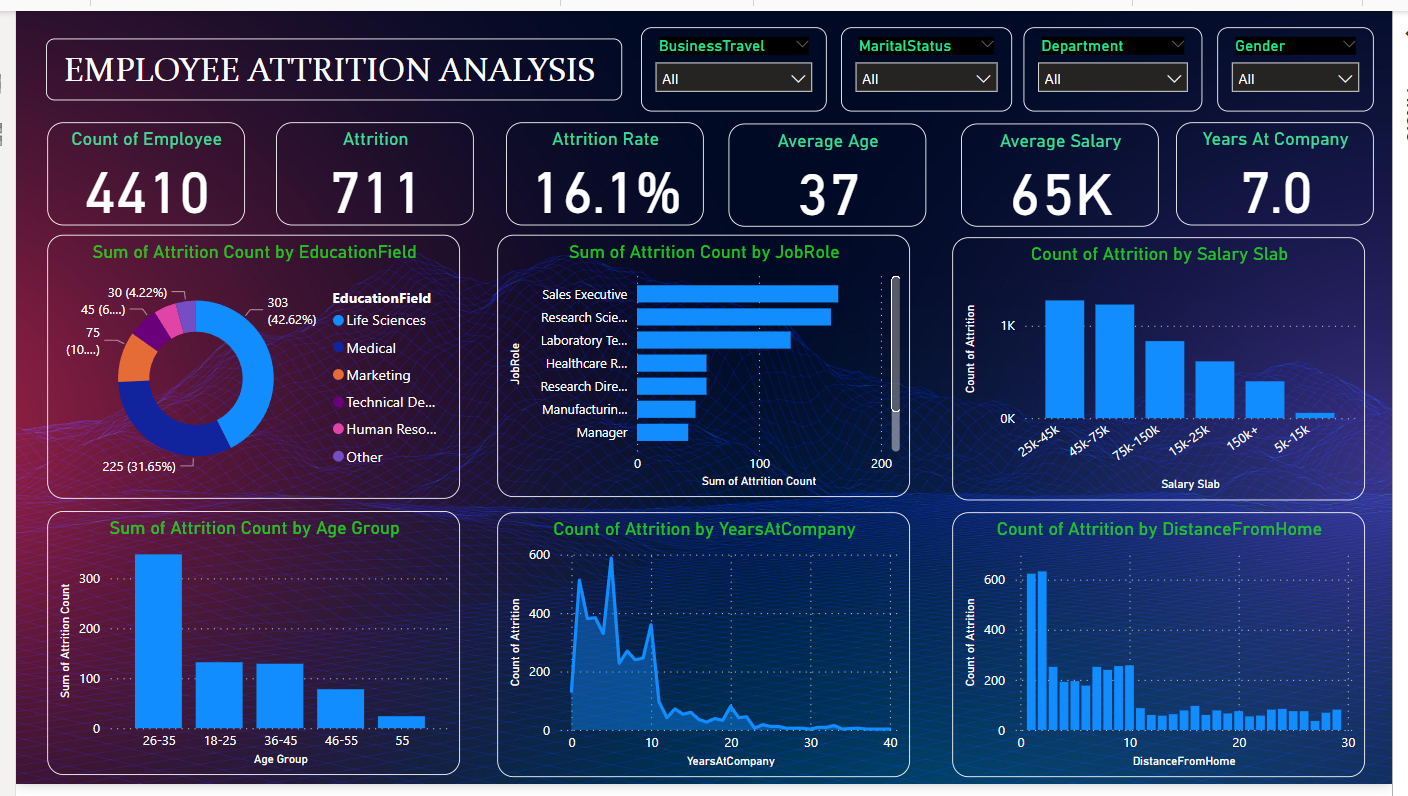

The page's visual inventory and layout, read from the dashboard file:
{"tool":"powerbi","page":{"name":"Page 1","canvas":[1280,720],"ordinal":0},"visuals":[{"type":"card","title":"Count of Employee","fields":{"Values":["CountNonNull(Attrition Predicted.EmployeeID)"]},"box":[28.6,103.2,184,95.7],"z":0},{"type":"card","title":"Average Age","fields":{"Values":["Avg(Attrition Predicted.Age)"]},"box":[662.5,104.4,184,95.7],"z":1000},{"type":"card","title":"Attrition","fields":{"Values":["Sum(Attrition Predicted.AttritionCounnt)"]},"box":[242.4,103.2,184,95.7],"z":2000},{"type":"card","title":"Attrition Rate","fields":{"Values":["Attrition Predicted.Measure"]},"box":[456.2,103.2,184,95.7],"z":3000},{"type":"card","title":"Average Salary","fields":{"Values":["Avg(Attrition Predicted.MonthlyIncome)"]},"box":[878.8,104.4,184,95.7],"z":4000},{"type":"card","title":" Years At Company","fields":{"Values":["Avg(Attrition Predicted.YearsAtCompany)"]},"box":[1078.9,103.2,184,95.7],"z":5000},{"type":"donutChart","fields":{"Category":["Attrition Predicted.EducationField"],"Y":["Sum(Attrition Predicted.AttritionCounnt)"]},"box":[28.8,208.6,384.2,245.6],"z":6000},{"type":"columnChart","fields":{"Y":["Sum(Attrition Predicted.Attrition Count)"],"Category":["Attrition Predicted.Age Group"]},"box":[28.8,465.2,384.2,245.6],"z":7000},{"type":"clusteredBarChart","fields":{"Y":["Sum(Attrition Predicted.Attrition Count)"],"Category":["Attrition Predicted.JobRole"]},"box":[447.7,208.1,383.7,244.2],"z":8000},{"type":"slicer","title":"Gender","fields":{"Values":["Attrition Predicted.Gender"]},"box":[1116.9,14.9,145.6,78.7],"z":9000},{"type":"columnChart","fields":{"Y":["CountNonNull(Attrition Predicted.Attrition)"],"Category":["Attrition Predicted.Salary Slab"]},"box":[871.3,210.1,384.1,244.9],"z":10000},{"type":"textbox","box":[28.2,25.2,536.2,57.9],"z":11000},{"type":"stackedAreaChart","fields":{"Y":["CountNonNull(Attrition Predicted.Attrition)"],"Category":["Attrition Predicted.YearsAtCompany"]},"box":[447.5,466.1,384.1,246.1],"z":12000},{"type":"lineStackedColumnComboChart","fields":{"Category":["Attrition Predicted.DistanceFromHome"],"Y":["CountNonNull(Attrition Predicted.Attrition)"]},"box":[871.3,466.1,384.1,246.1],"z":13000},{"type":"slicer","fields":{"Values":["Attrition Predicted.Department"]},"box":[937.2,14.9,166.6,78.3],"z":14000},{"type":"slicer","fields":{"Values":["Attrition Predicted.MaritalStatus"]},"box":[766.9,14.9,159.1,78.3],"z":15000},{"type":"slicer","fields":{"Values":["Attrition Predicted.BusinessTravel"]},"box":[581.7,14.9,172.8,78.3],"z":16000}]}

Visuals, with their boxes in screenshot pixels (x1, y1, x2, y2), scaled from the page's 1280x720 canvas onto the 1408x796 screenshot:
"Count of Employee" card: locate(31, 114, 234, 220)
"Average Age" card: locate(729, 115, 931, 221)
"Attrition" card: locate(267, 114, 469, 220)
"Attrition Rate" card: locate(502, 114, 704, 220)
"Average Salary" card: locate(967, 115, 1169, 221)
" Years At Company" card: locate(1187, 114, 1389, 220)
donutChart - Attrition Predicted.EducationField x Sum(Attrition Predicted.AttritionCounnt): locate(32, 231, 454, 502)
columnChart - Sum(Attrition Predicted.Attrition Count) x Attrition Predicted.Age Group: locate(32, 514, 454, 786)
clusteredBarChart - Sum(Attrition Predicted.Attrition Count) x Attrition Predicted.JobRole: locate(492, 230, 915, 500)
"Gender" slicer: locate(1229, 16, 1389, 103)
columnChart - CountNonNull(Attrition Predicted.Attrition) x Attrition Predicted.Salary Slab: locate(958, 232, 1381, 503)
textbox: locate(31, 28, 621, 92)
stackedAreaChart - CountNonNull(Attrition Predicted.Attrition) x Attrition Predicted.YearsAtCompany: locate(492, 515, 915, 787)
lineStackedColumnComboChart - Attrition Predicted.DistanceFromHome x CountNonNull(Attrition Predicted.Attrition): locate(958, 515, 1381, 787)
slicer - Attrition Predicted.Department: locate(1031, 16, 1214, 103)
slicer - Attrition Predicted.MaritalStatus: locate(844, 16, 1019, 103)
slicer - Attrition Predicted.BusinessTravel: locate(640, 16, 830, 103)
